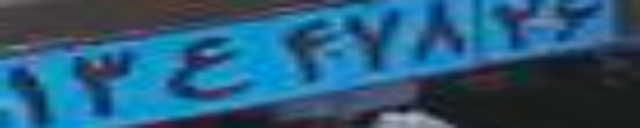1: (12, 64, 53, 124)
2: (493, 1, 541, 52)
3: (71, 49, 135, 118)
4: (282, 18, 340, 86)
6: (552, 0, 605, 43)
7: (344, 8, 403, 72)
8: (407, 0, 470, 60)
ain: (161, 36, 255, 99)
